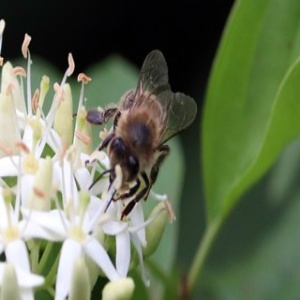bee: (90, 49, 201, 213)
